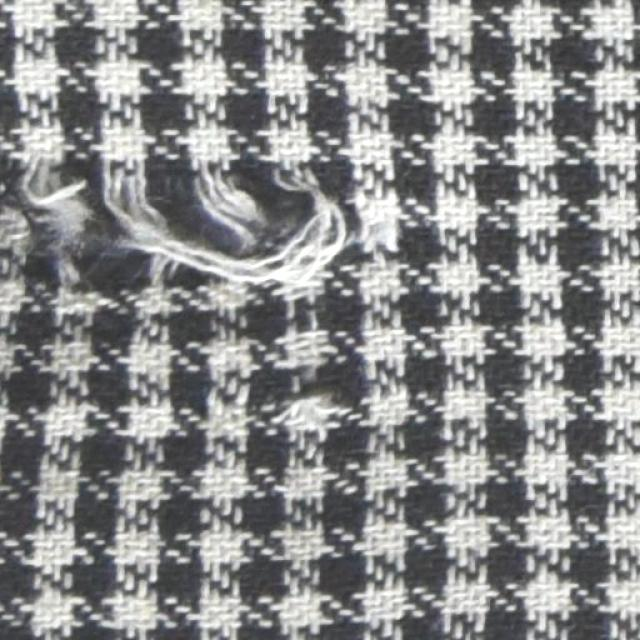Snag: (0, 138, 367, 312), (275, 377, 364, 455)
